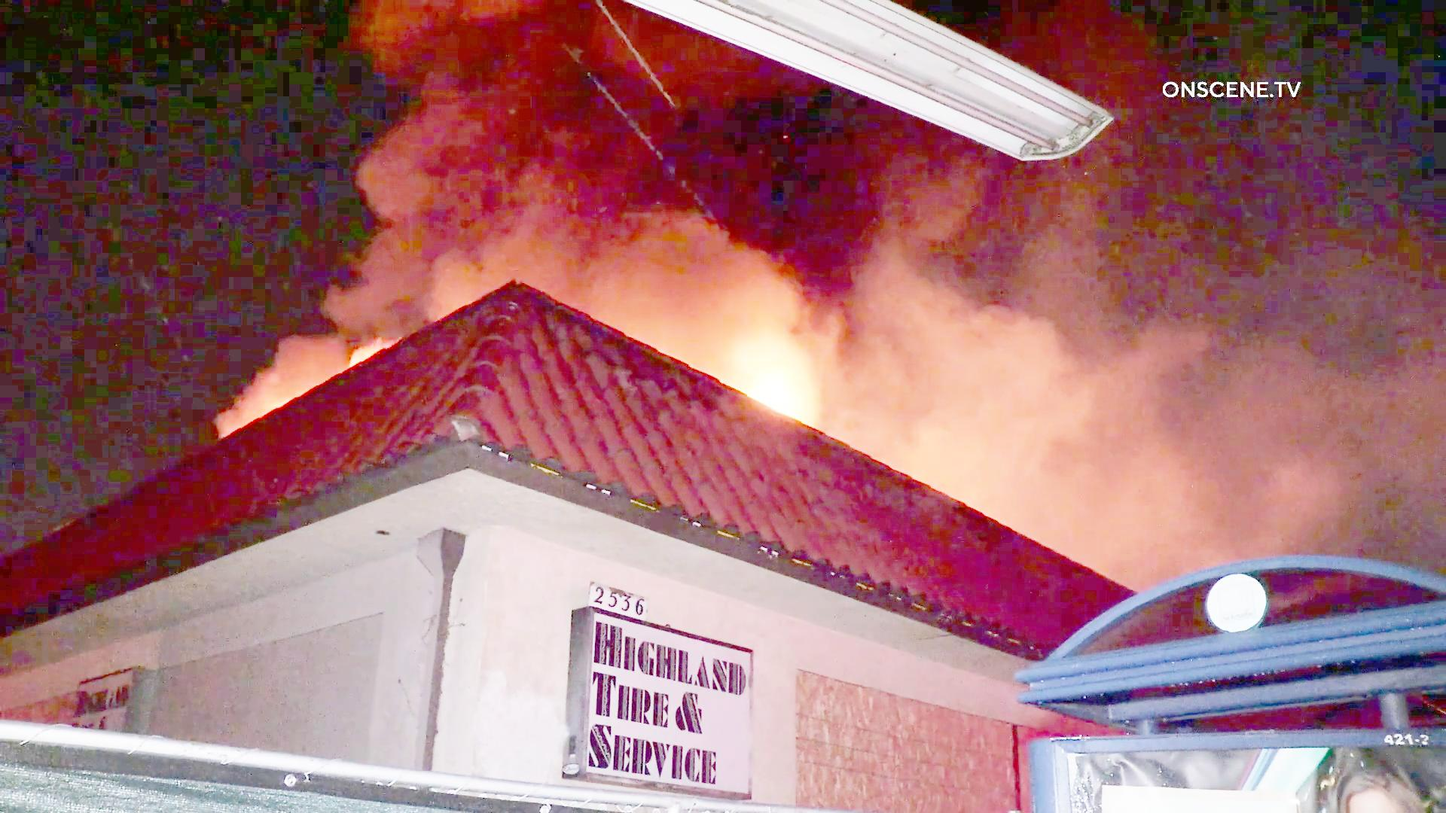fire: (744, 341, 820, 414)
smoke: (919, 290, 1174, 481)
